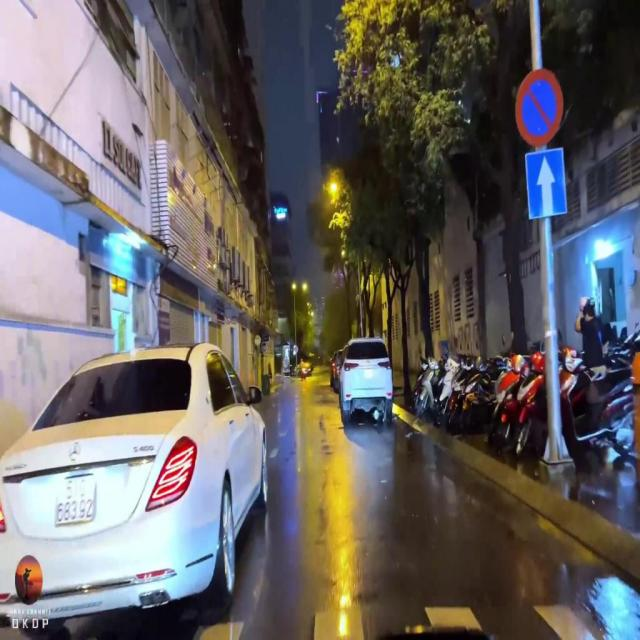cam_do_xe: (514, 68, 566, 148)
duong_mot_chieu: (525, 148, 567, 220)
